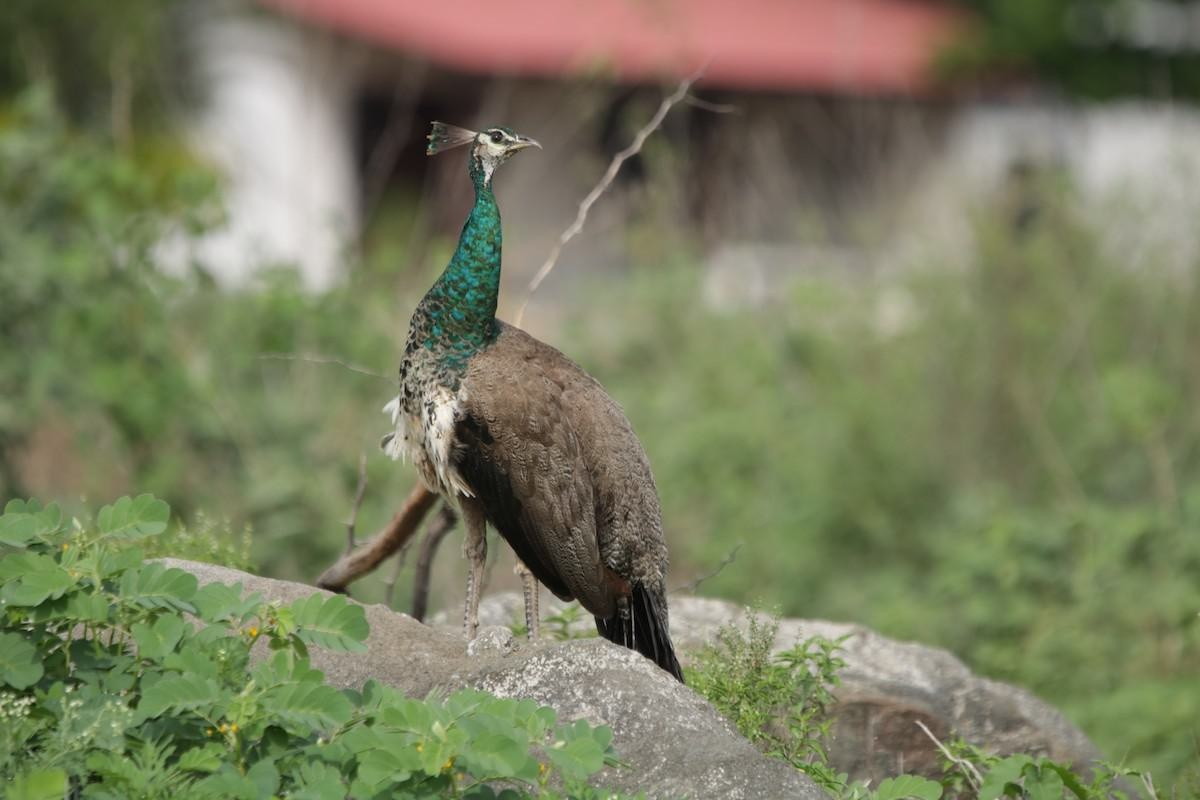peacock: (396, 88, 761, 691)
